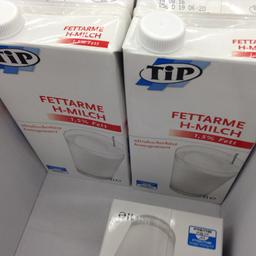milk: (122, 0, 255, 202), (0, 0, 133, 186)
